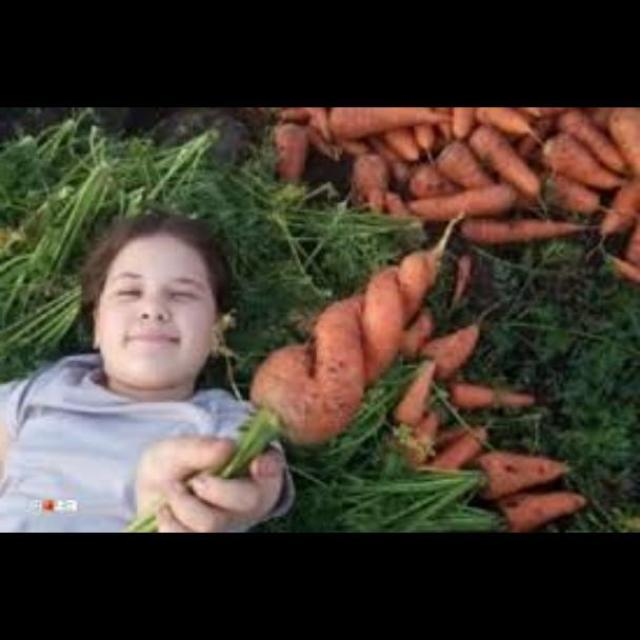Carrot: (261, 107, 640, 255), (226, 244, 459, 451), (395, 319, 590, 532)
